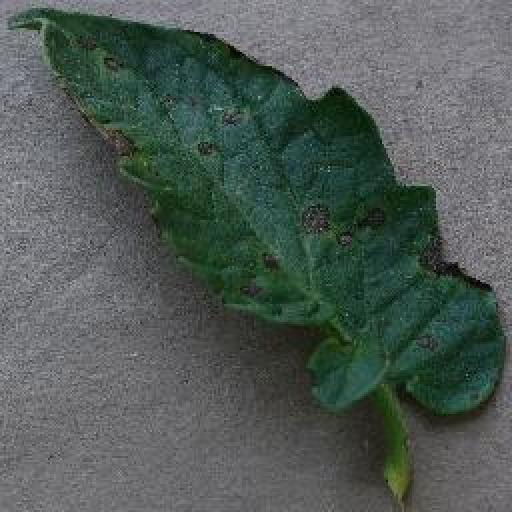Early Blight: (7, 5, 508, 419)
